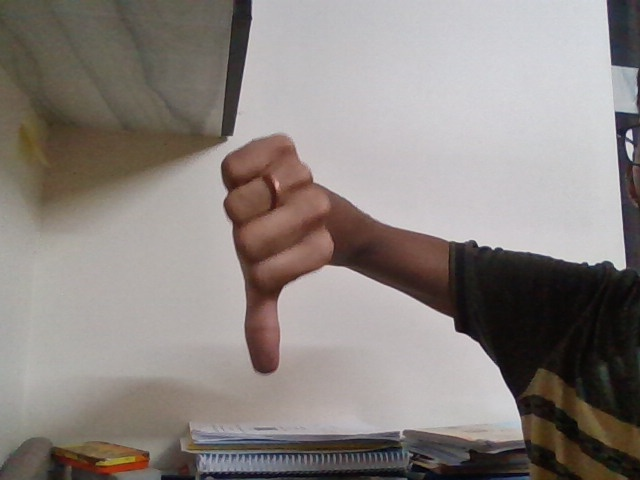No: (205, 122, 354, 401)
